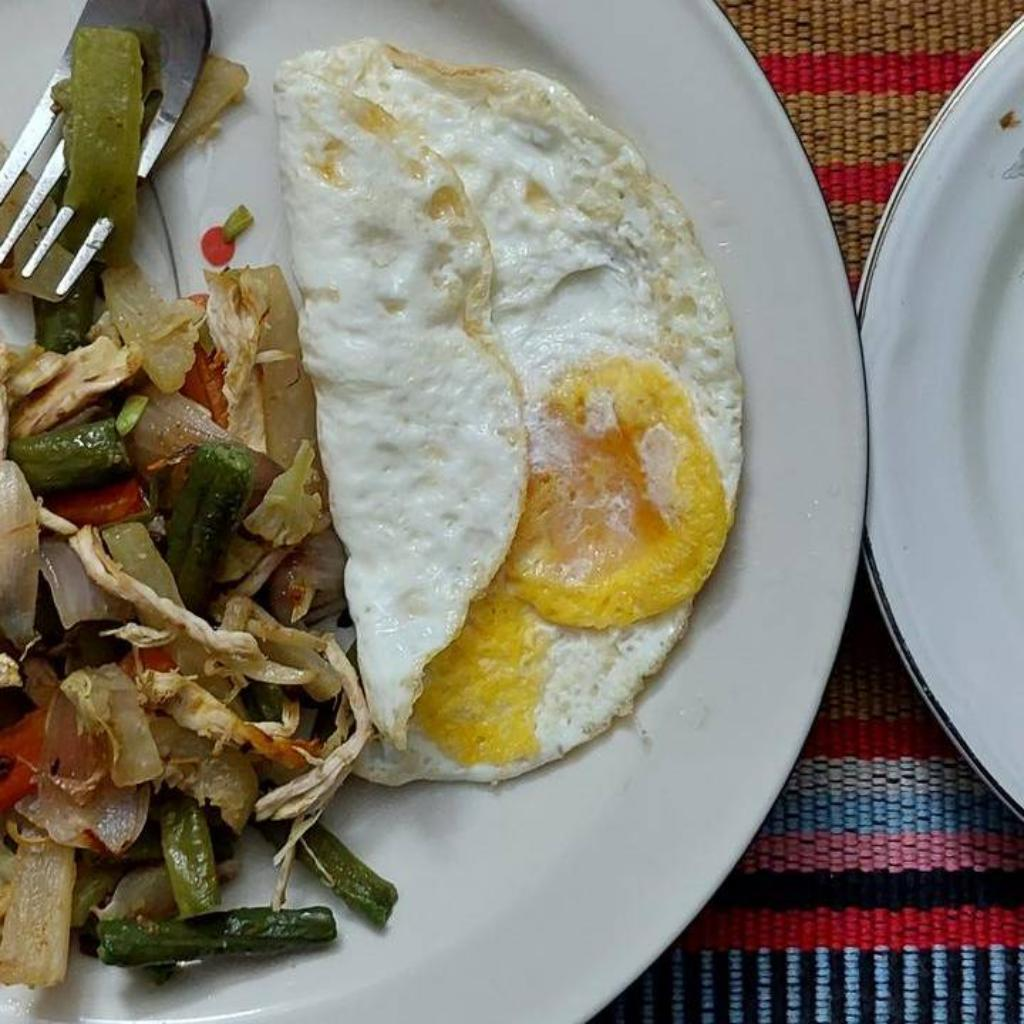egg-poached: (273, 40, 744, 785)
vegetable: (0, 20, 395, 984)
